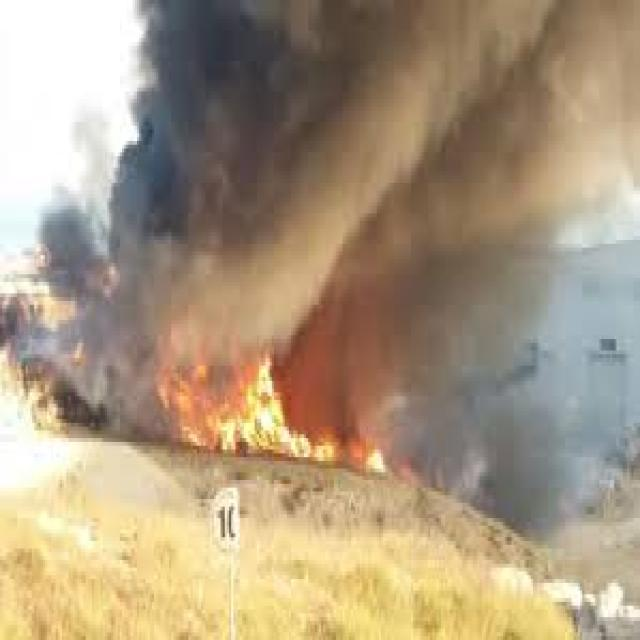Fire: (246, 366, 278, 448)
Smoke: (154, 8, 621, 252)
